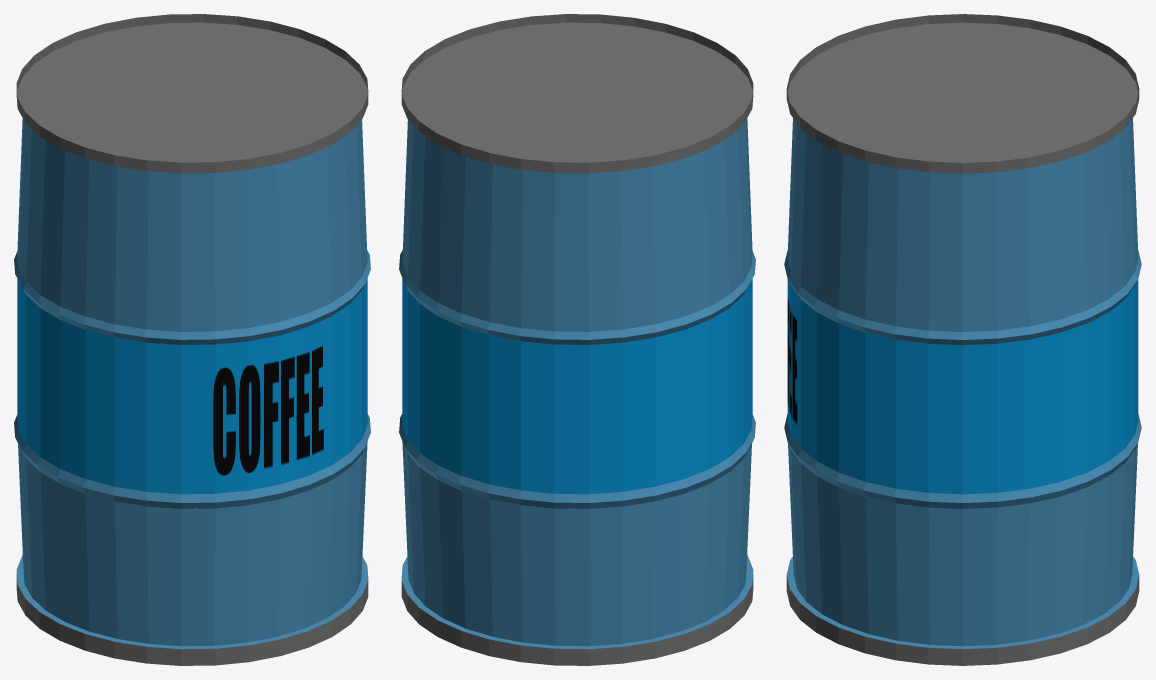
Rendered from barrelCoffee.glb.
3 renders of one model, left to right at view 1: azimuth 30°, elevation 25°; view 2: azimuth 150°, elevation 25°; view 3: azimuth 270°, elevation 25°, orthographic.
Visible parts, largest first — view 1: Cylinder; view 2: Cylinder; view 3: Cylinder.
Part boxes in pixels (bbox=[...]): Cylinder: bbox=[14, 14, 370, 665]; Cylinder: bbox=[399, 14, 755, 665]; Cylinder: bbox=[784, 14, 1141, 665].
Bounding box in the file's own units: 2.66 × 4.14 × 2.66.
Materials: 3 (1 with a texture image).
